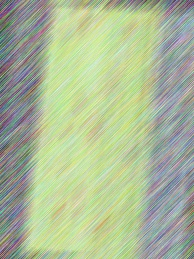Bacterial_Leaf_Blight: (108, 68, 128, 99), (122, 140, 137, 169), (122, 18, 138, 43), (95, 216, 111, 239), (69, 93, 86, 113), (52, 198, 64, 225), (33, 118, 46, 142), (90, 117, 101, 145), (73, 179, 85, 204), (61, 24, 73, 47), (144, 64, 152, 95), (78, 10, 90, 29), (98, 6, 109, 25), (50, 6, 58, 29), (99, 180, 109, 196), (60, 157, 68, 176), (61, 121, 69, 138), (81, 114, 89, 127), (72, 4, 82, 14)
